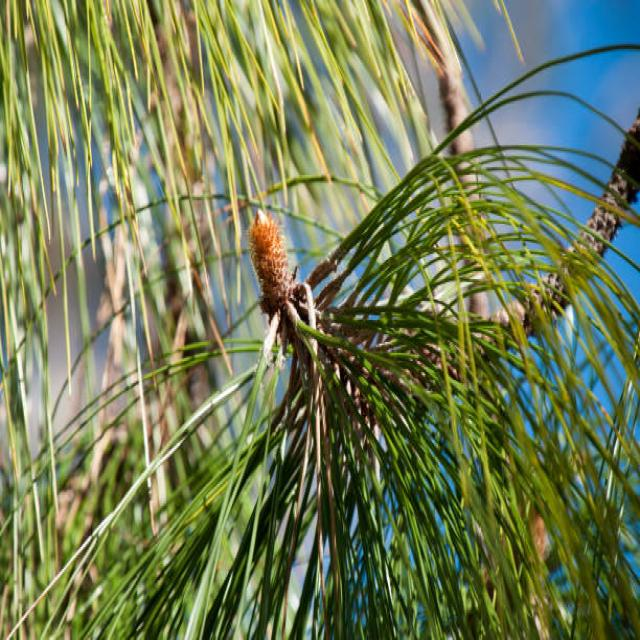Pine: (140, 107, 638, 628), (154, 48, 508, 472)
